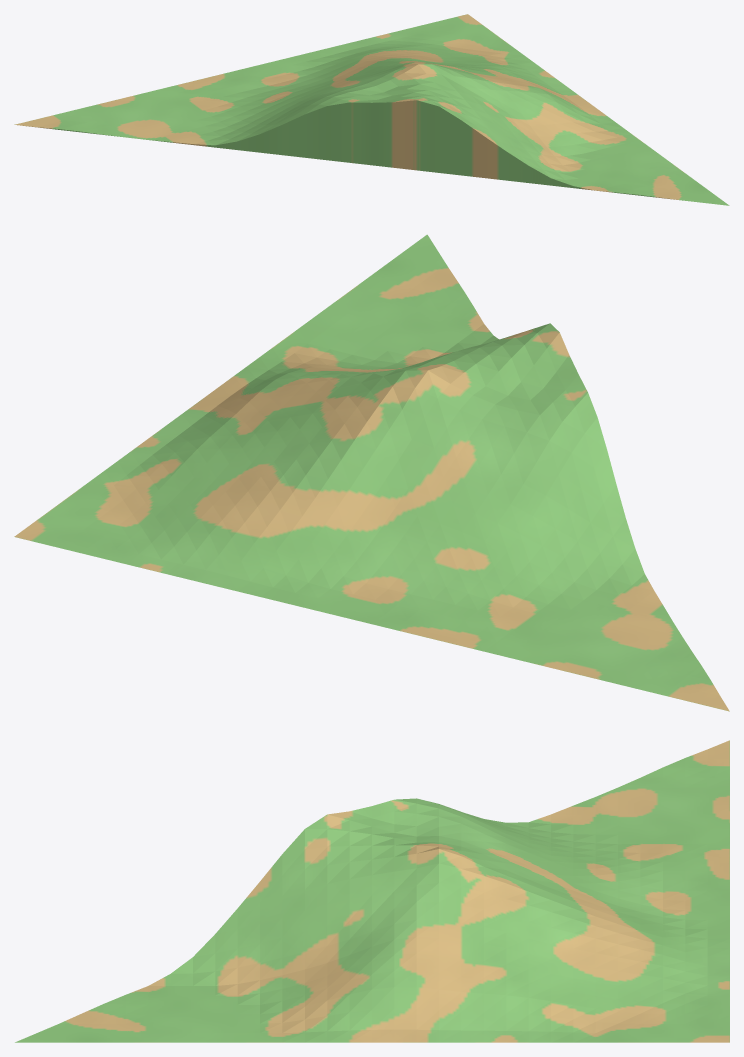
Rendered from Grass_Hills_11_SE.obj.
3 views of the same model, one above another, from view 1: azimuth 30°, elevation 25°; view 2: azimuth 150°, elevation 25°; view 3: azimuth 270°, elevation 25° (orthographic). The views are drawn at different scales.
Size of the model in its own units: 10 by 1.48 by 10.
1 material, 1 textured.
